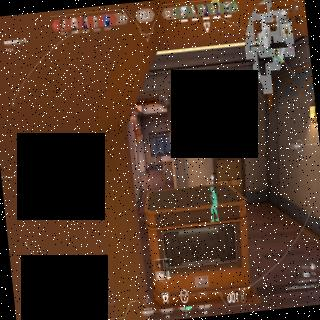ENEMY-BODY: (146, 162, 150, 176)
ENEMY-HEAD: (146, 162, 147, 164)
